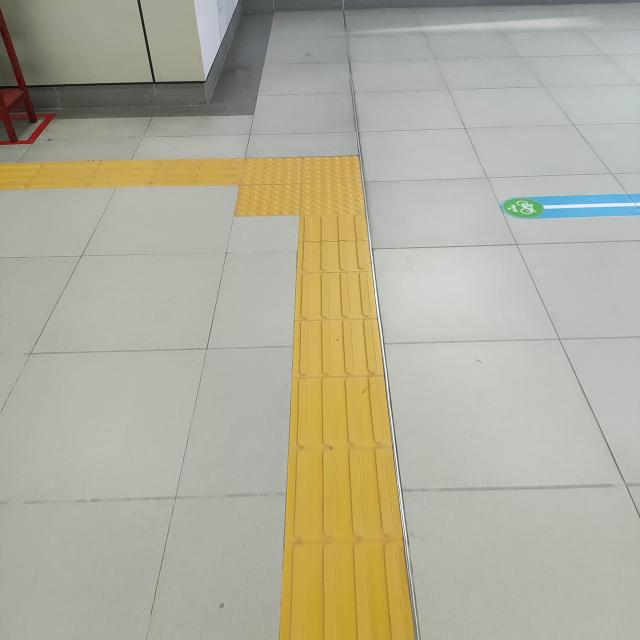kiri: (134, 104, 420, 279)
